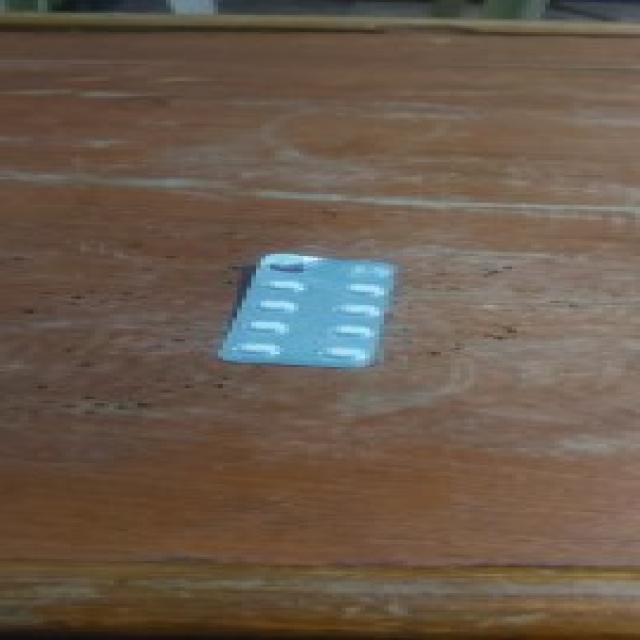Cacat: (209, 250, 405, 365)
Kemasan: (263, 257, 320, 281)
